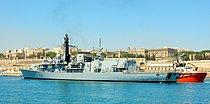MIL_Ship: (19, 33, 182, 83)
